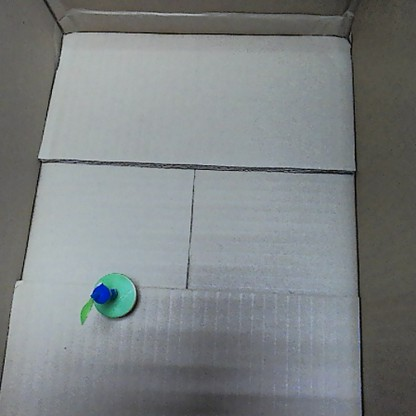leafairy: (76, 266, 140, 327)
